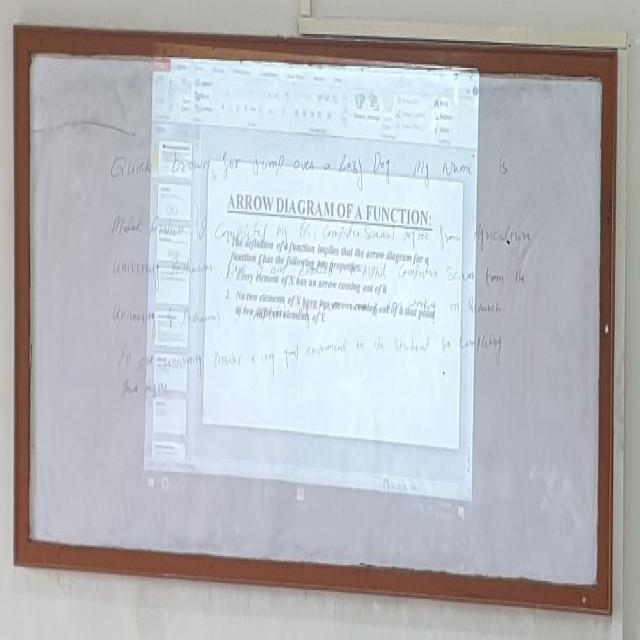Slide: (141, 40, 481, 528)
White-board: (21, 42, 610, 603)
